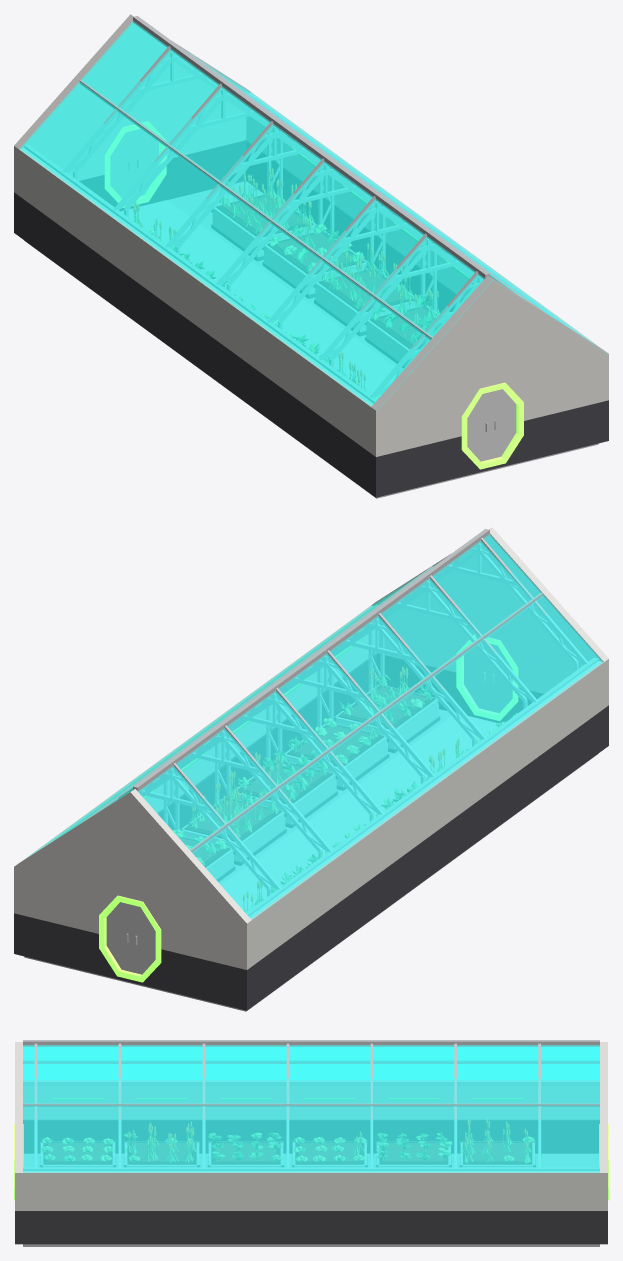
File: estufa (3).fbx
3 renders of one model, top to bottom at view 1: azimuth 30°, elevation 25°; view 2: azimuth 150°, elevation 25°; view 3: azimuth 270°, elevation 25°, orthographic. The views are drawn at different scales.
Parts seen in each view (by area): view 1: Estufa_Vidro, Estufa_Painel branco, Estufa_Painel escuro, Estufa_Estrutura, Estufa_Corredor, Estufa_Terra clara, Estufa_Borda verde, Estufa_Piso, Estufa_Folha 1, Porta_Entrada_D, Porta_Entrada_E, Estufa_Terra (+5 smaller); view 2: Estufa_Vidro, Estufa_Painel branco, Estufa_Estrutura, Estufa_Painel escuro, Estufa_Corredor, Estufa_Terra clara, Estufa_Borda verde, Estufa_Piso, Estufa_Terra, Estufa_Folha 1, Porta_Fundo_D, Porta_Fundo_E (+7 smaller); view 3: Estufa_Vidro, Estufa_Painel branco, Estufa_Painel escuro, Estufa_Estrutura, Estufa_Terra clara, Estufa_Piso, Estufa_Terra, Estufa_Folha 1, Estufa_Folha 2, Estufa_Luz verde, Estufa_Folha 3, Estufa_Metal escuro (+3 smaller).
Part boxes in pixels (x1,y1,x2,y2): Estufa_Vidro: (19,21,608,411); Estufa_Painel branco: (14,14,608,456); Estufa_Painel escuro: (14,141,608,497); Estufa_Estrutura: (24,16,564,402); Estufa_Corredor: (121,200,396,397); Estufa_Terra clara: (224,196,440,345); Estufa_Borda verde: (105,121,523,469); Estufa_Piso: (24,181,598,498); Estufa_Folha 1: (134,184,439,398); Porta_Entrada_D: (491,389,516,458); Porta_Entrada_E: (467,392,490,461); Estufa_Terra: (216,195,436,349); Estufa_Vidro: (26,534,603,919); Estufa_Painel branco: (14,527,608,969); Estufa_Estrutura: (58,529,598,915); Estufa_Painel escuro: (14,654,608,1010); Estufa_Corredor: (221,715,497,911); Estufa_Terra clara: (179,688,426,862); Estufa_Borda verde: (99,634,517,982); Estufa_Piso: (24,709,598,1011); Estufa_Terra: (182,685,434,867); Estufa_Folha 1: (173,674,517,912); Porta_Fundo_D: (106,902,131,971); Porta_Fundo_E: (132,905,155,974); Estufa_Vidro: (23,1045,599,1172); Estufa_Painel branco: (15,1042,607,1210); Estufa_Painel escuro: (15,1121,607,1244); Estufa_Estrutura: (23,1040,599,1170); Estufa_Terra clara: (48,1143,526,1161); Estufa_Piso: (23,1154,599,1246); Estufa_Terra: (43,1142,531,1164); Estufa_Folha 1: (42,1132,530,1162); Estufa_Folha 2: (42,1137,532,1161); Estufa_Luz verde: (53,1098,522,1100); Estufa_Folha 3: (42,1132,534,1161); Estufa_Metal escuro: (23,1120,599,1166).
Bounding box in the file's own units: 8.4 × 6.8 × 22.68.
